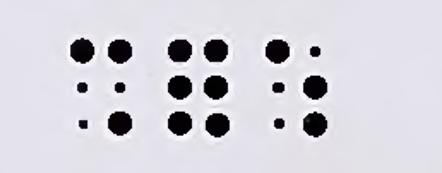an: (265, 39, 328, 138)
mag: (70, 36, 133, 136)
mahal: (168, 39, 229, 138)
